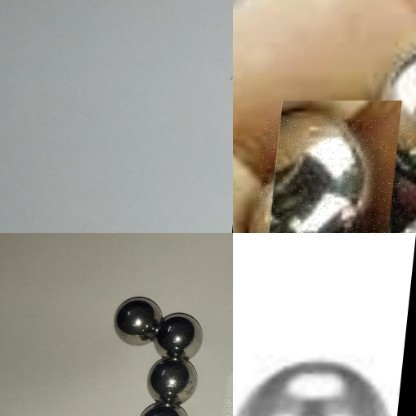ironball: (271, 107, 375, 232), (232, 347, 408, 415), (381, 46, 416, 172), (145, 351, 198, 405), (115, 293, 161, 347), (157, 312, 201, 359)
